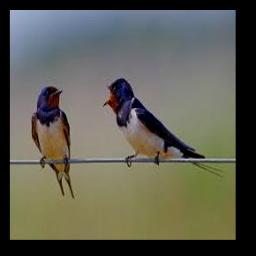Swallow: (101, 77, 224, 177), (32, 84, 73, 199)
